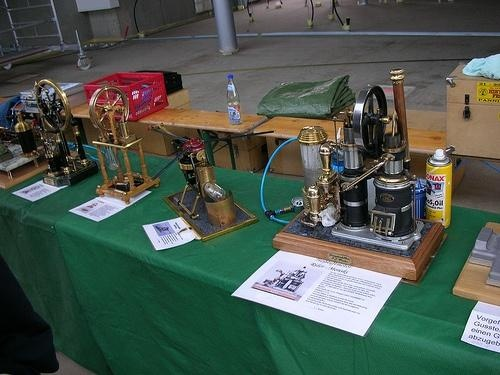bottle: (226, 73, 245, 127)
